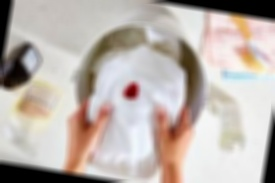blood: (122, 82, 141, 102)
